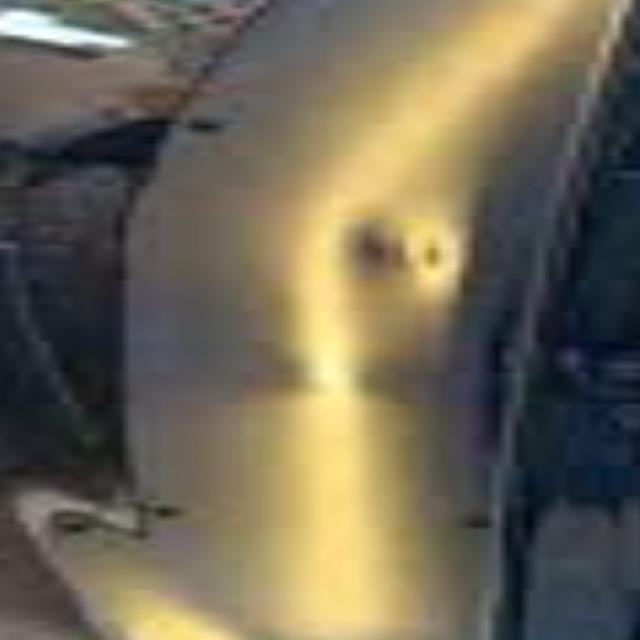dents: (291, 187, 521, 329)
